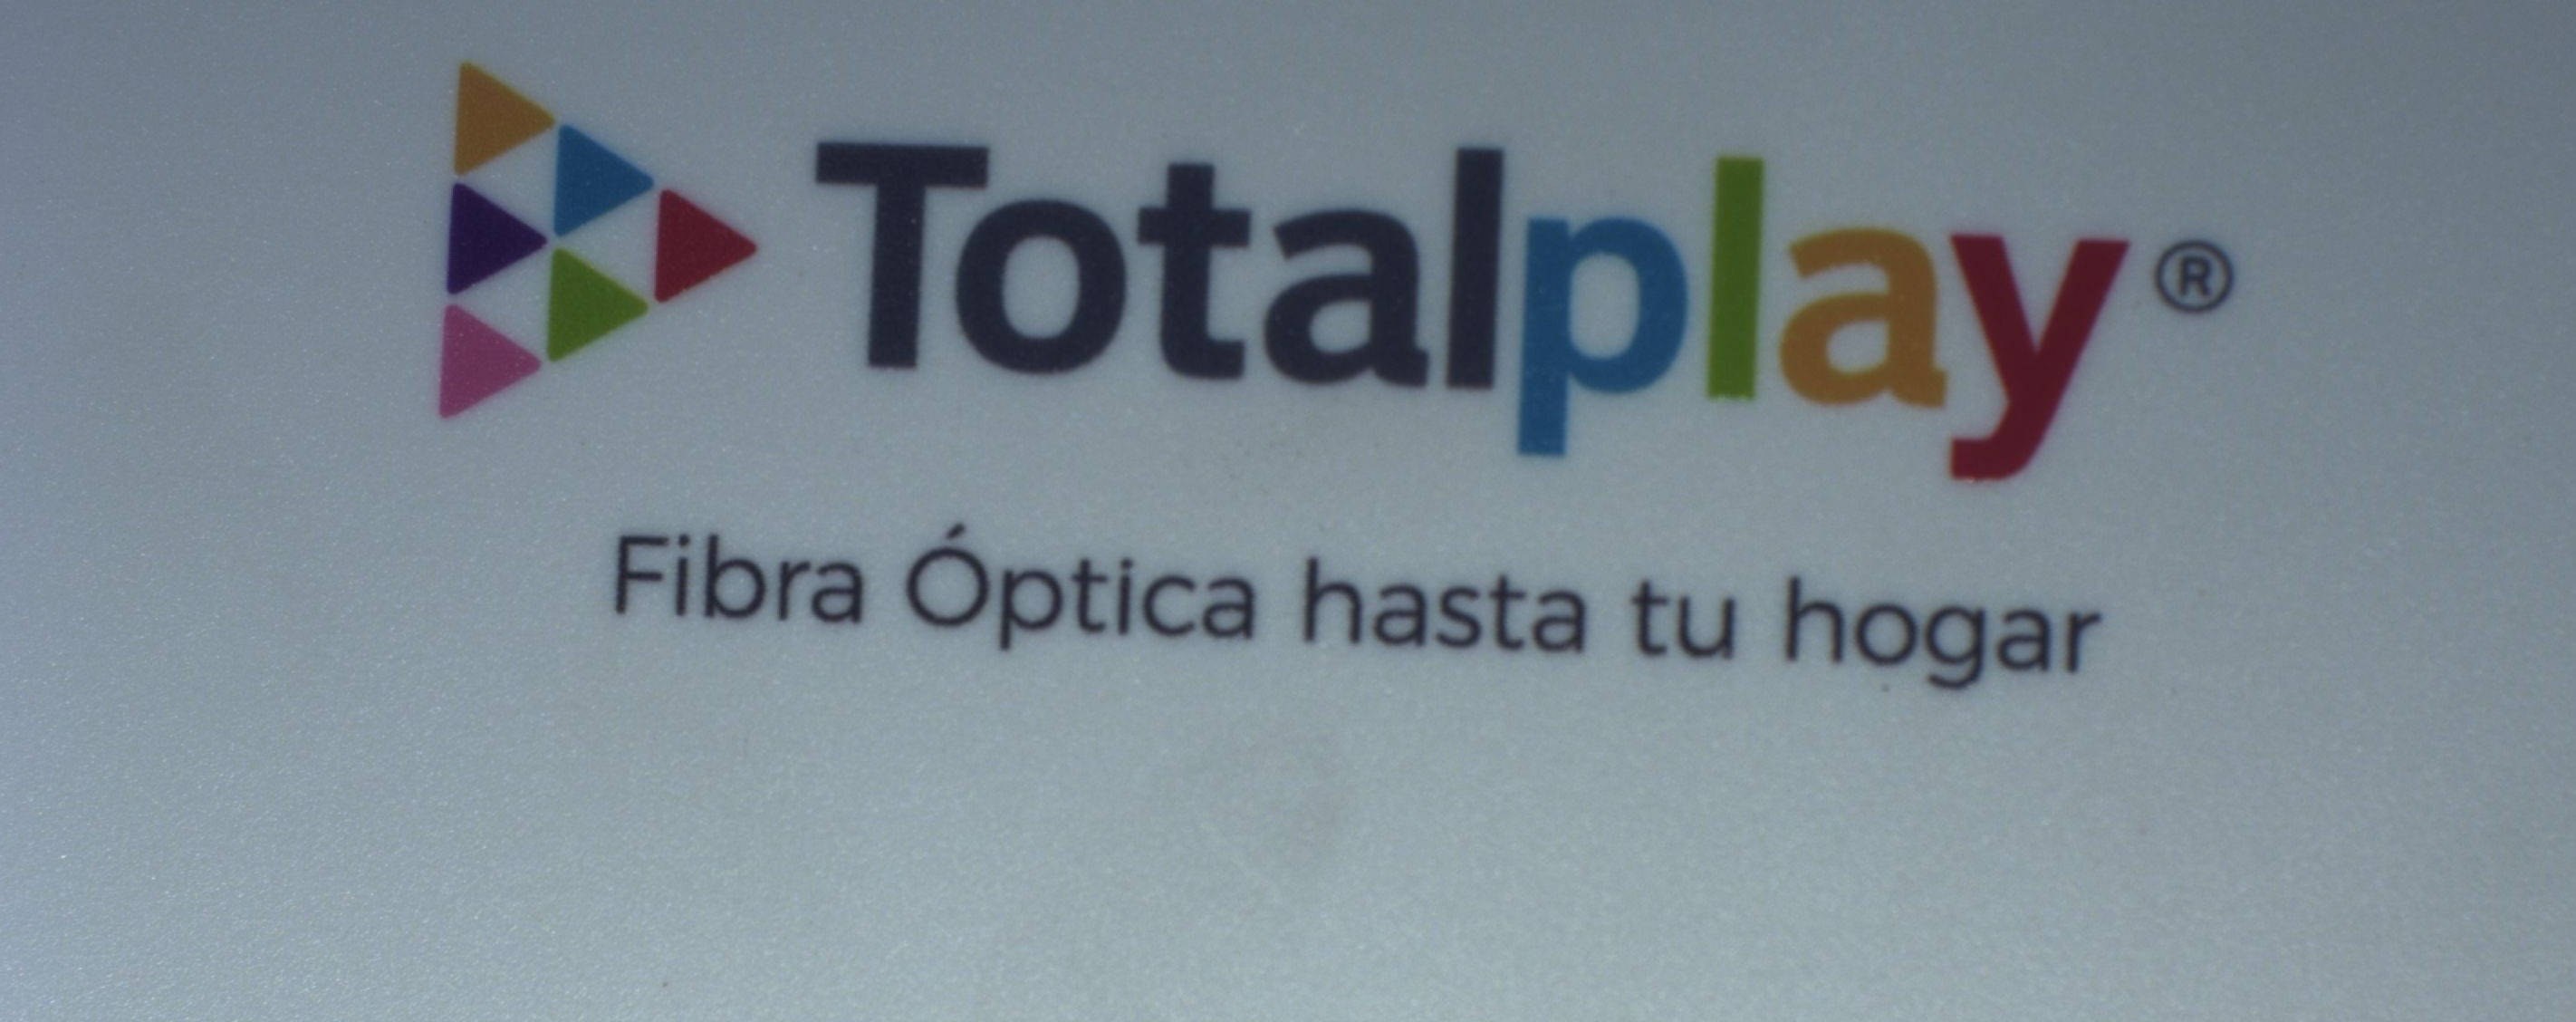BP_TotalPlay: (429, 61, 2256, 711)
